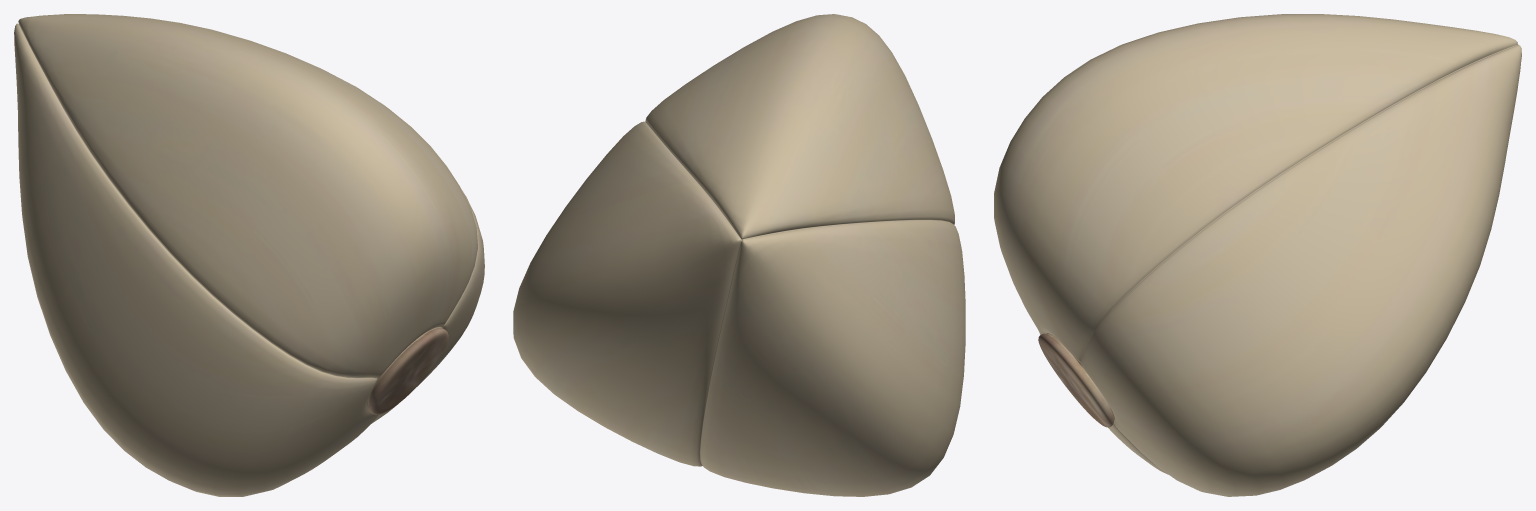
File: GrainBuckwheat030.obj
The picture shows the model from 3 angles, left to right: view 1: azimuth 30°, elevation 25°; view 2: azimuth 150°, elevation 25°; view 3: azimuth 270°, elevation 25°; orthographic projection. The views are drawn at different scales.
Visible parts, largest first — view 1: GrainBuckwheat030; view 2: GrainBuckwheat030; view 3: GrainBuckwheat030.
Boxes of the visible parts, bbox=[...] form: GrainBuckwheat030: bbox=[14, 14, 484, 496]; GrainBuckwheat030: bbox=[513, 14, 965, 496]; GrainBuckwheat030: bbox=[994, 14, 1521, 496].
Size of the model in its own units: 0.0256 by 0.0268 by 0.0296.
1 material, 1 textured.
